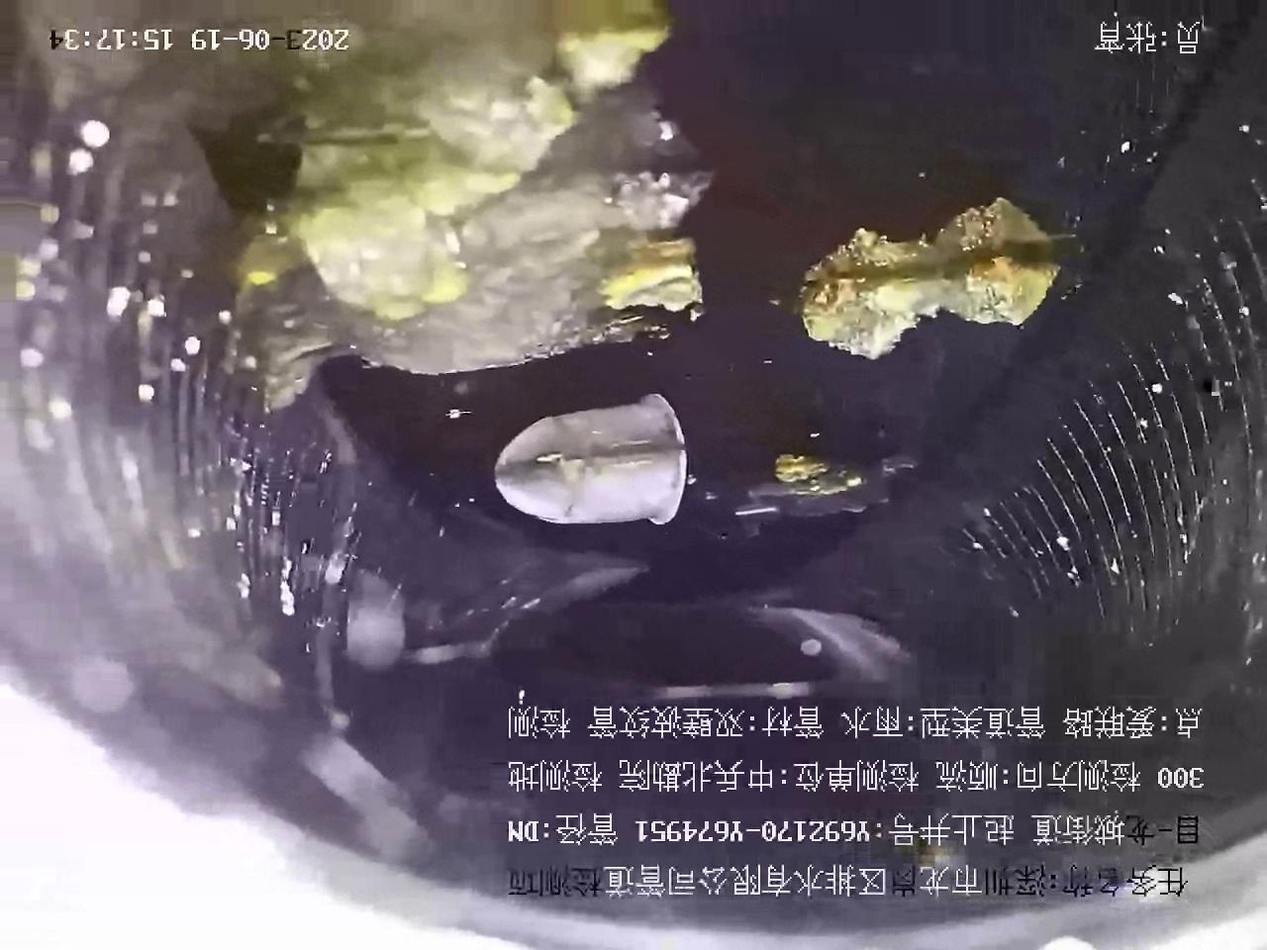ZAW: (238, 1, 712, 409), (795, 199, 1067, 358)
